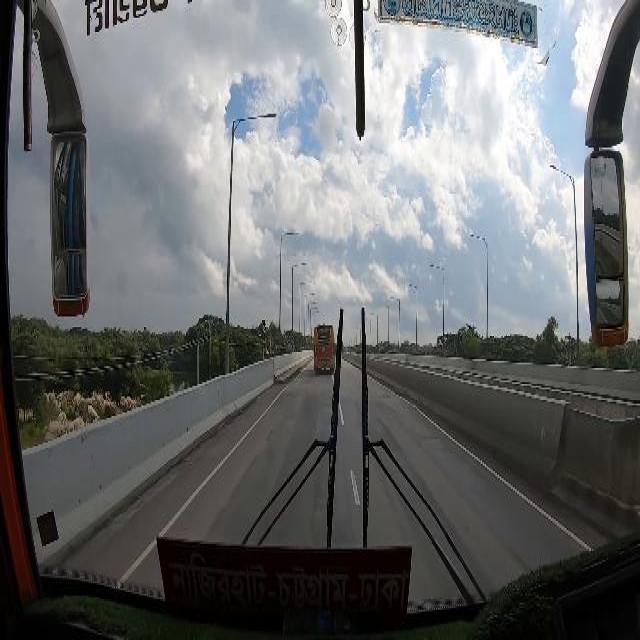vehicle: (314, 325, 336, 371)
